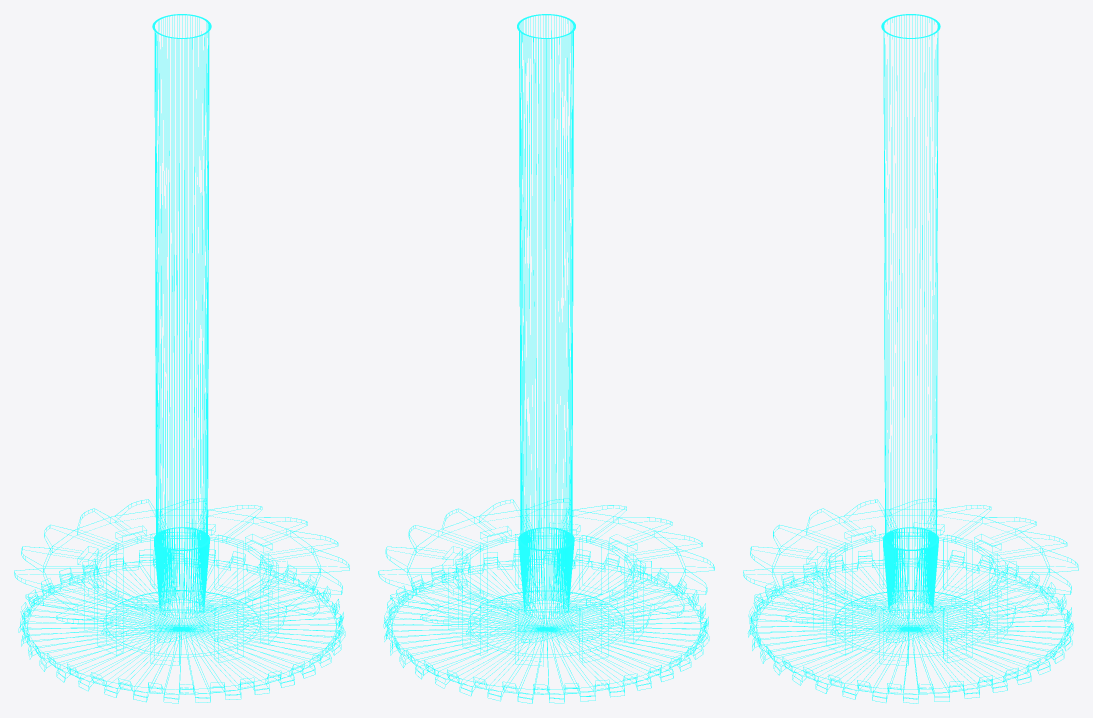
Rendered from Paint_mixer-transformed.glb.
The picture shows the model from 3 angles, left to right: view 1: azimuth 30°, elevation 25°; view 2: azimuth 150°, elevation 25°; view 3: azimuth 270°, elevation 25°; orthographic projection.
Visible parts, largest first — view 1: Cylinder.001; view 2: Cylinder.001; view 3: Cylinder.001.
Boxes of the visible parts, x1,y1,x2,y2 form: Cylinder.001: (14, 14, 349, 703); Cylinder.001: (378, 14, 714, 703); Cylinder.001: (743, 14, 1078, 703).
Size of the model in its own units: 4.85 by 9.79 by 4.89.
